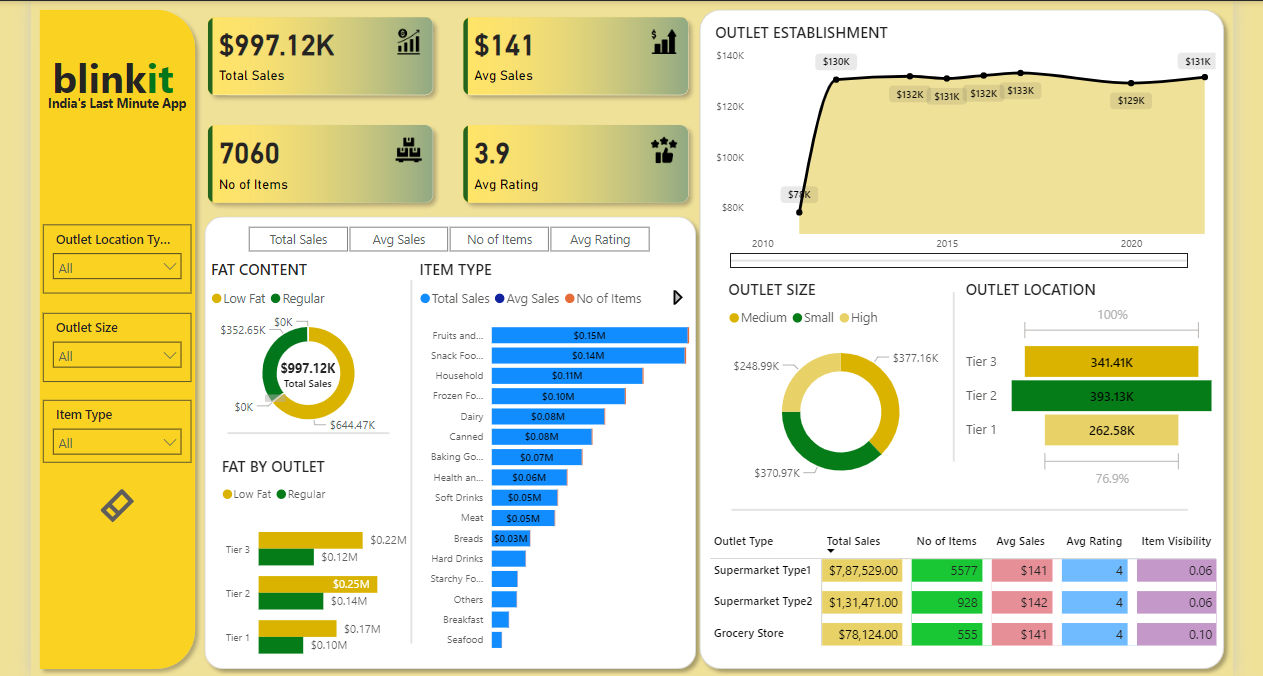

The dashboard page shown, as its layout file describes it:
{"tool":"powerbi","page":{"name":"Page 1","canvas":[1280,720],"ordinal":0},"visuals":[{"type":"cardVisual","fields":{"Data":["BlinkIT Grocery Data.Total Sales","BlinkIT Grocery Data.Avg Sales","BlinkIT Grocery Data.No of Items","BlinkIT Grocery Data.Avg Rating"]},"box":[170.8,0,546.5,232.6],"z":0},{"type":"shape","box":[0,0,183.8,720.6],"z":1000},{"type":"textbox","box":[17.9,45.5,190.3,97.6],"z":2000},{"type":"textbox","box":[13,94.3,185.4,34.2],"z":3000},{"type":"shape","box":[175.7,220.5,541.6,500.1],"z":4000},{"type":"donutChart","title":"FAT CONTENT","fields":{"Y":["BlinkIT Grocery Data.Total Sales","BlinkIT Grocery Data.Avg Sales","BlinkIT Grocery Data.No of Items","BlinkIT Grocery Data.Avg Rating"],"Category":["BlinkIT Grocery Data.Item Fat Content"]},"box":[191.7,274.8,207.7,186.9],"z":5000},{"type":"slicer","fields":{"Values":["Metrics.Metrics"]},"box":[206.6,232.6,476.6,35.8],"z":6000},{"type":"cardVisual","fields":{"Data":["BlinkIT Grocery Data.Total Sales","BlinkIT Grocery Data.Avg Sales","BlinkIT Grocery Data.No of Items","BlinkIT Grocery Data.Avg Rating"]},"box":[249.2,369.1,91.1,60.7],"z":7000},{"type":"clusteredBarChart","title":"FAT BY OUTLET","fields":{"Y":["BlinkIT Grocery Data.Total Sales"],"Category":["BlinkIT Grocery Data.Outlet Location Type"],"Series":["BlinkIT Grocery Data.Item Fat Content"]},"box":[198.1,484.1,217.3,236.5],"z":8000},{"type":"shape","box":[209.8,452.2,172.4,16.3],"z":9000},{"type":"shape","box":[398.5,297.7,14.6,387.1],"z":10000},{"type":"barChart","title":"ITEM TYPE","fields":{"Y":["BlinkIT Grocery Data.Total Sales","BlinkIT Grocery Data.Avg Sales","BlinkIT Grocery Data.No of Items","BlinkIT Grocery Data.Avg Rating"],"Category":["BlinkIT Grocery Data.Item Type"]},"box":[413.1,274.9,289.5,427.8],"z":11000},{"type":"shape","box":[703,0,576.8,720.5],"z":12000},{"type":"lineChart","title":"OUTLET ESTABLISHMENT","fields":{"Category":["BlinkIT Grocery Data.Outlet Establishment Year"],"Y":["BlinkIT Grocery Data.Total Sales"]},"box":[723.7,22.4,543.2,252.4],"z":13000},{"type":"donutChart","title":"OUTLET SIZE","fields":{"Y":["BlinkIT Grocery Data.Total Sales"],"Category":["BlinkIT Grocery Data.Outlet Size"]},"box":[743.3,296,239.1,227.7],"z":14000},{"type":"shape","box":[745,268.4,486.3,16.3],"z":15000},{"type":"shape","box":[969.4,310.7,26,180.5],"z":16000},{"type":"funnel","title":"OUTLET LOCATION","fields":{"Y":["Sum(BlinkIT Grocery Data.Sales)"],"Category":["BlinkIT Grocery Data.Outlet Location Type"]},"box":[990.6,296,276.5,227.7],"z":17000},{"type":"shape","box":[746.6,523.7,486.3,35.8],"z":18000},{"type":"pivotTable","fields":{"Rows":["BlinkIT Grocery Data.Outlet Type"],"Values":["BlinkIT Grocery Data.Total Sales","BlinkIT Grocery Data.No of Items","BlinkIT Grocery Data.Avg Sales","BlinkIT Grocery Data.Avg Rating","Avg(BlinkIT Grocery Data.Item Visibility)"]},"box":[717.4,559.2,556,143.8],"z":19000},{"type":"slicer","fields":{"Values":["BlinkIT Grocery Data.Outlet Location Type"]},"box":[13,237.5,157.8,73.2],"z":20000},{"type":"slicer","fields":{"Values":["BlinkIT Grocery Data.Item Type"]},"box":[13,424.5,157.8,66.7],"z":21000},{"type":"slicer","fields":{"Values":["BlinkIT Grocery Data.Outlet Size"]},"box":[13,331.8,157.8,73.2],"z":22000},{"type":"actionButton","box":[70.3,516,44.7,43.1],"z":23000}]}

Visuals, with their boxes on the page's 1280x720 design canvas (x1, y1, x2, y2). These are canvas units, not pixel positions in the 1263x676 screenshot, which may show the page scaled, cropped or inside an application window:
cardVisual - BlinkIT Grocery Data.Total Sales x BlinkIT Grocery Data.Avg Sales: 171,0,717,233
shape: 0,0,184,721
textbox: 18,46,208,143
textbox: 13,94,198,128
shape: 176,220,717,721
"FAT CONTENT" donutChart: 192,275,399,462
slicer - Metrics.Metrics: 207,233,683,268
cardVisual - BlinkIT Grocery Data.Total Sales x BlinkIT Grocery Data.Avg Sales: 249,369,340,430
"FAT BY OUTLET" clusteredBarChart: 198,484,415,721
shape: 210,452,382,468
shape: 398,298,413,685
"ITEM TYPE" barChart: 413,275,703,703
shape: 703,0,1280,720
"OUTLET ESTABLISHMENT" lineChart: 724,22,1267,275
"OUTLET SIZE" donutChart: 743,296,982,524
shape: 745,268,1231,285
shape: 969,311,995,491
"OUTLET LOCATION" funnel: 991,296,1267,524
shape: 747,524,1233,560
pivotTable - BlinkIT Grocery Data.Outlet Type x BlinkIT Grocery Data.Total Sales: 717,559,1273,703
slicer - BlinkIT Grocery Data.Outlet Location Type: 13,238,171,311
slicer - BlinkIT Grocery Data.Item Type: 13,424,171,491
slicer - BlinkIT Grocery Data.Outlet Size: 13,332,171,405
actionButton: 70,516,115,559
